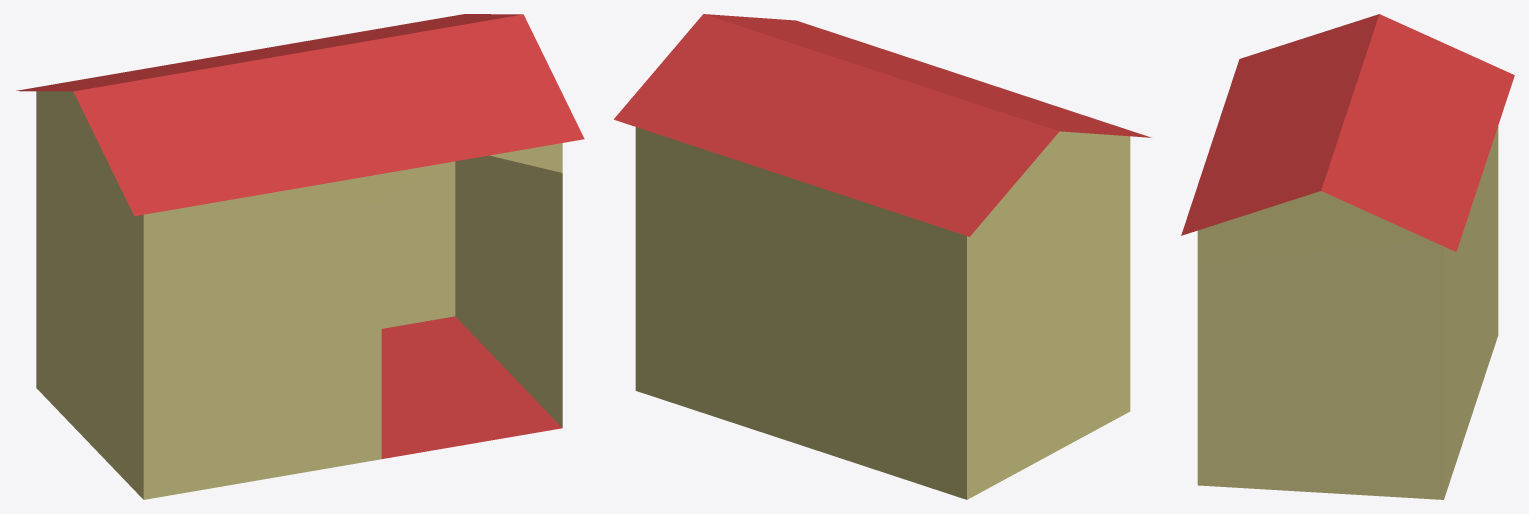
3 renders of one model, left to right at view 1: azimuth 30°, elevation 25°; view 2: azimuth 150°, elevation 25°; view 3: azimuth 270°, elevation 25°, orthographic. The views are drawn at different scales.
Bounding box in the file's own units: 15.49 × 11.32 × 11.52.
